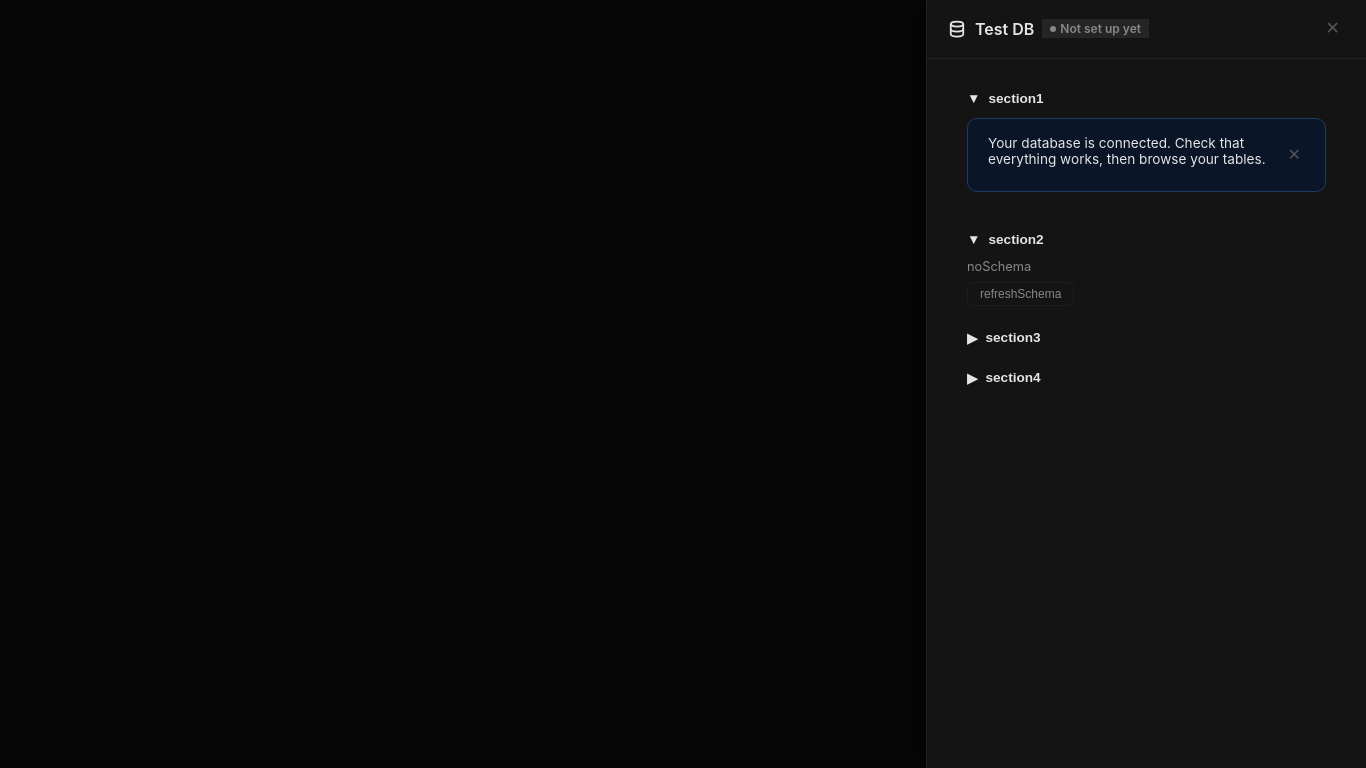
Test: ConnectorDetailDrawer › clicking the section 1 toggle button closes it (aria-expanded becomes false)
Click the button "▼ section1": (1016, 98) x1=967 y1=79 x2=1326 y2=118
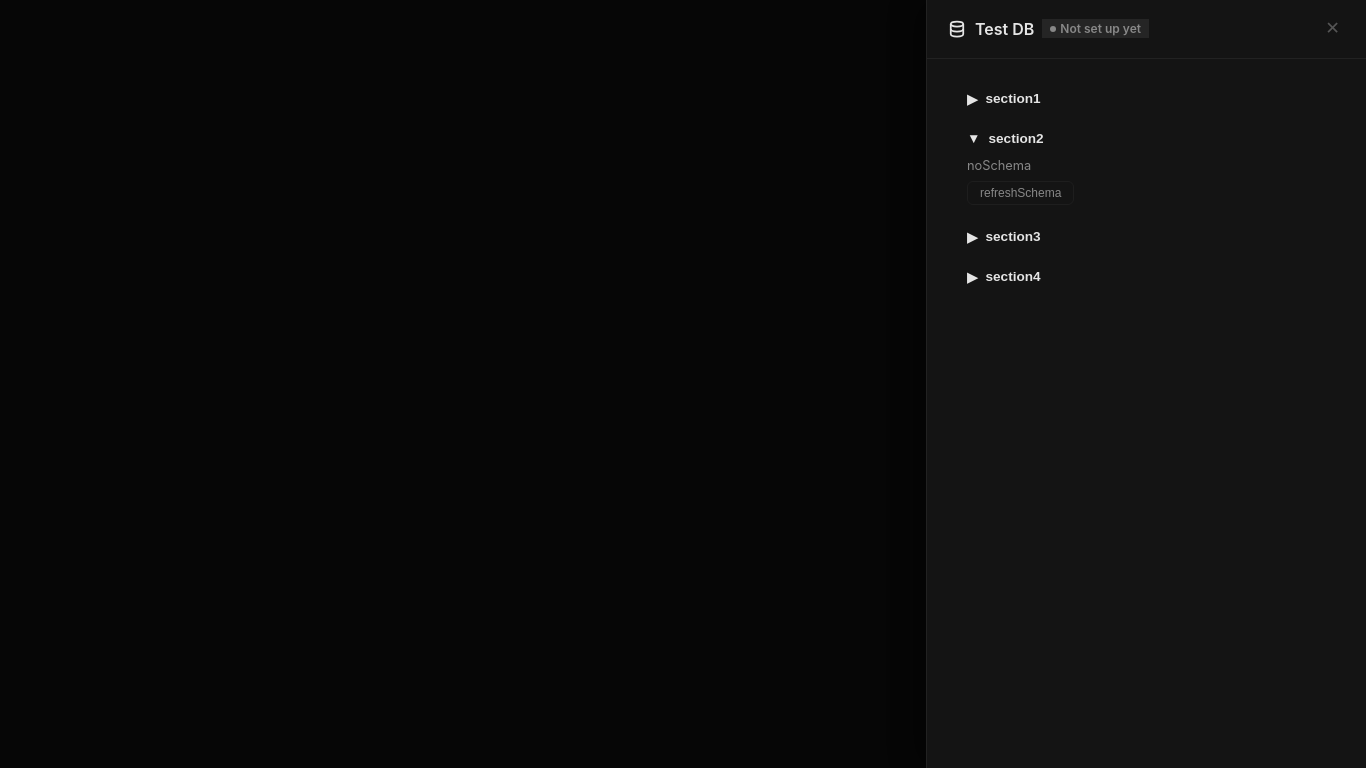
expect the button "▶ section1" is collapsed: met, box x1=967 y1=79 x2=1326 y2=119
